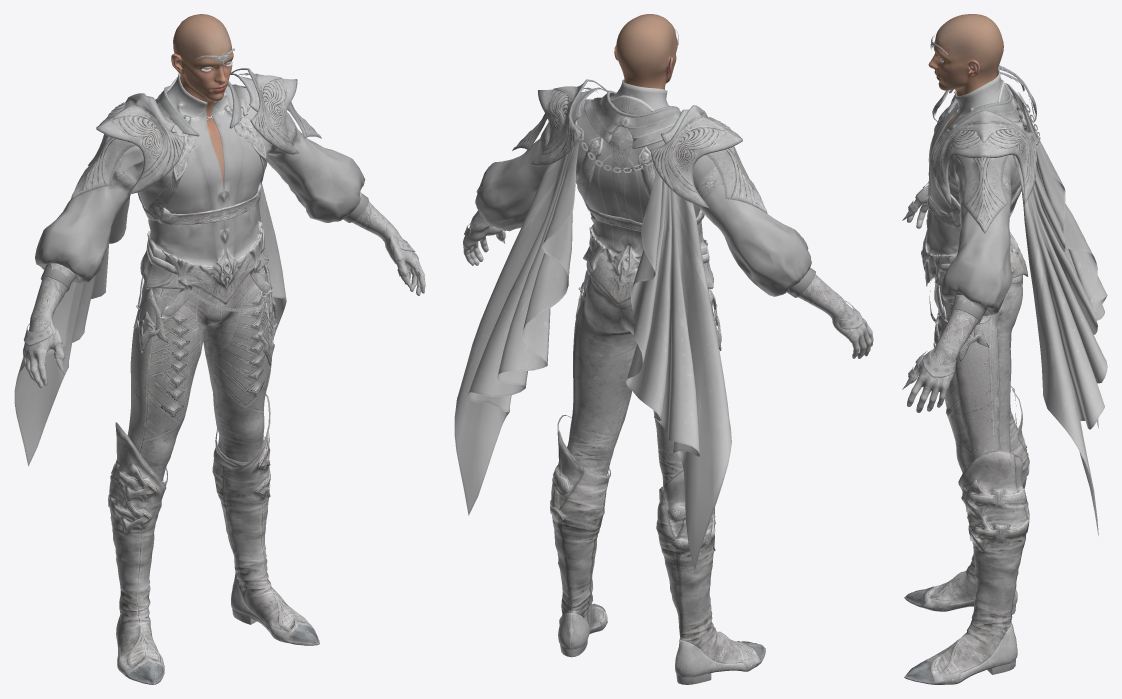
3 views of the same model, side by side, from view 1: azimuth 30°, elevation 25°; view 2: azimuth 150°, elevation 25°; view 3: azimuth 270°, elevation 25° (orthographic). The views are drawn at different scales.
Visible parts, largest first — view 1: GM_0181_T05_Body, GM_0181_T05_Boots, GM_0181_T05_Pants, GM_0181_T05_Shoulder, GM_0181_T05_Cape, GM_0181_T05_Glove, GM_BaseHead; view 2: GM_0181_T05_Cape, GM_0181_T05_Body, GM_0181_T05_Boots, GM_0181_T05_Pants, GM_0181_T05_Shoulder, GM_BaseHead, GM_0181_T05_Glove; view 3: GM_0181_T05_Cape, GM_0181_T05_Boots, GM_0181_T05_Body, GM_0181_T05_Pants, GM_0181_T05_Shoulder, GM_BaseHead, GM_0181_T05_Glove.
Part boxes in pixels (x1,y1,x2,y2): GM_0181_T05_Body: (35, 73, 368, 366); GM_0181_T05_Boots: (108, 394, 319, 684); GM_0181_T05_Pants: (127, 267, 302, 635); GM_0181_T05_Shoulder: (71, 68, 321, 199); GM_0181_T05_Cape: (14, 84, 286, 466); GM_0181_T05_Glove: (23, 192, 425, 388); GM_BaseHead: (171, 14, 233, 115); GM_0181_T05_Cape: (454, 120, 731, 570); GM_0181_T05_Body: (475, 79, 815, 351); GM_0181_T05_Boots: (550, 415, 765, 684); GM_0181_T05_Pants: (567, 275, 713, 565); GM_0181_T05_Shoulder: (512, 79, 767, 213); GM_BaseHead: (614, 14, 677, 89); GM_0181_T05_Glove: (463, 210, 873, 358); GM_0181_T05_Cape: (1005, 83, 1107, 535); GM_0181_T05_Boots: (904, 386, 1029, 684); GM_0181_T05_Body: (917, 69, 1028, 371); GM_0181_T05_Pants: (917, 275, 1022, 619); GM_0181_T05_Shoulder: (932, 65, 1036, 233); GM_BaseHead: (928, 14, 1003, 96); GM_0181_T05_Glove: (902, 182, 978, 412).
Size of the model in its own units: 1.24 by 1.89 by 0.5658.
10 materials, 9 textured.
